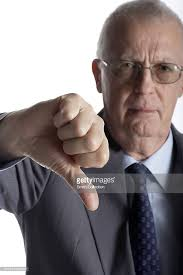thumbs_up: (0, 76, 63, 173), (122, 82, 178, 176)
